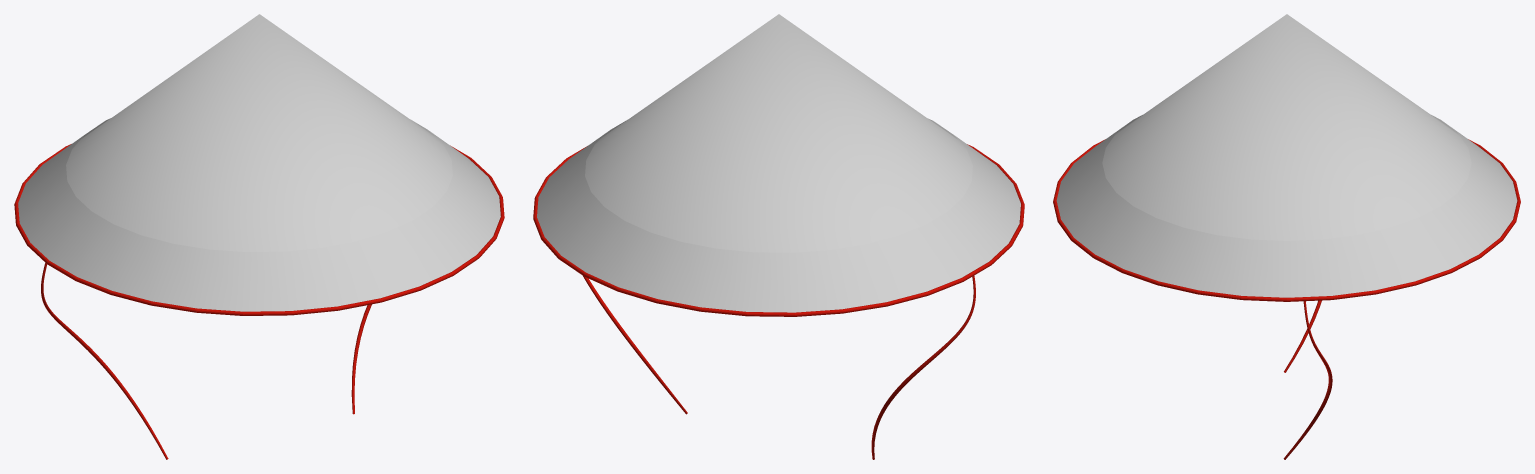
The model's file is sarong.obj.
The picture shows the model from 3 angles, left to right: view 1: azimuth 30°, elevation 25°; view 2: azimuth 150°, elevation 25°; view 3: azimuth 270°, elevation 25°; orthographic projection. The views are drawn at different scales.
Parts seen in each view (by area): view 1: Cone, Cone.001, Cone.002, NurbsPath; view 2: Cone, Cone.001, Cone.002, NurbsPath; view 3: Cone, Cone.001, Cone.002, NurbsPath.
Boxes of the visible parts, <box> form: Cone: <box>66,14,452,251</box>; Cone.001: <box>18,118,500,311</box>; Cone.002: <box>14,144,504,315</box>; NurbsPath: <box>41,263,371,459</box>; Cone: <box>585,14,972,252</box>; Cone.001: <box>537,118,1020,312</box>; Cone.002: <box>533,144,1024,316</box>; NurbsPath: <box>583,275,975,459</box>; Cone: <box>1102,14,1471,240</box>; Cone.001: <box>1056,115,1517,297</box>; Cone.002: <box>1053,139,1520,301</box>; NurbsPath: <box>1283,300,1332,459</box>.
Size of the model in its own units: 4.55 by 4.32 by 4.55.
